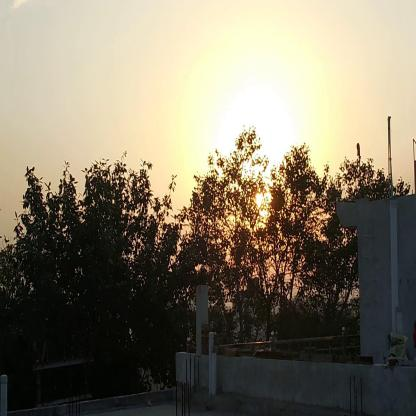other: (205, 88, 310, 212)
